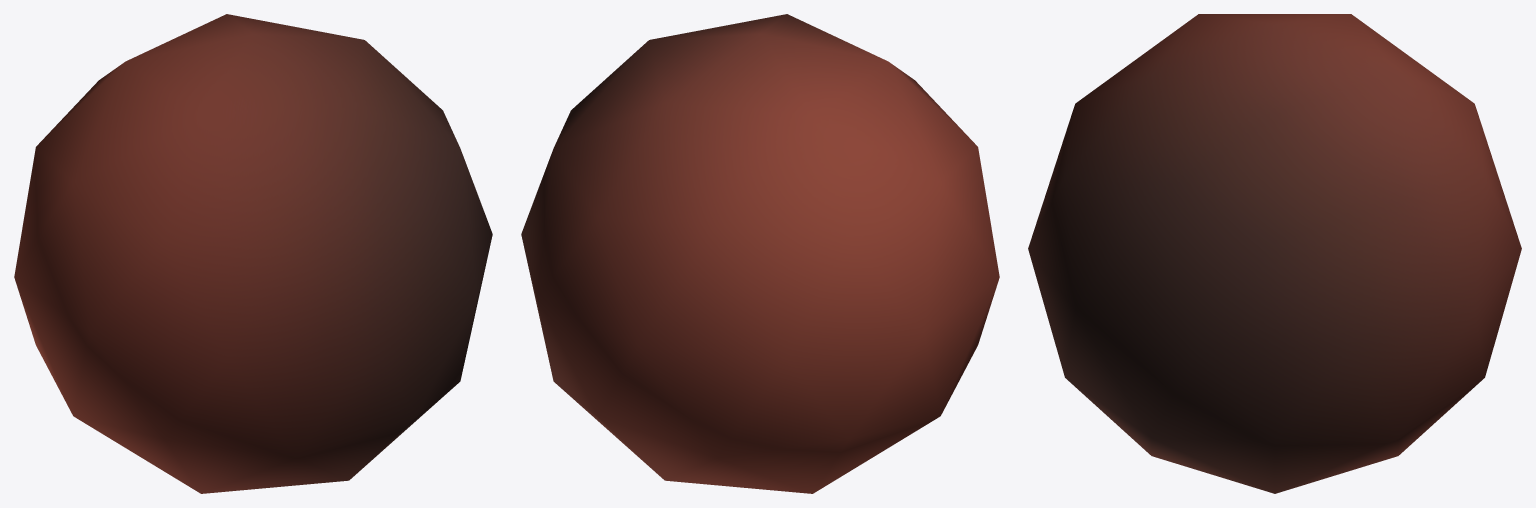
File: Avocado_pit.glb
3 renders of one model, left to right at view 1: azimuth 30°, elevation 25°; view 2: azimuth 150°, elevation 25°; view 3: azimuth 270°, elevation 25°, orthographic.
Visible parts, largest first — view 1: geometry_0; view 2: geometry_0; view 3: geometry_0.
Boxes of the visible parts, x1,y1,x2,y2 form: geometry_0: (14,14,492,493); geometry_0: (521,14,999,493); geometry_0: (1028,14,1521,493).
Size of the model in its own units: 0.056 by 0.0589 by 0.0589.
1 material, 1 textured.
